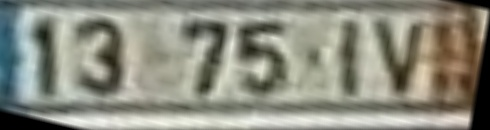1: (28, 14, 61, 102)
3: (71, 17, 128, 104)
5: (235, 22, 296, 103)
7: (180, 18, 235, 106)
I: (338, 20, 366, 100)
V: (367, 18, 430, 102)
